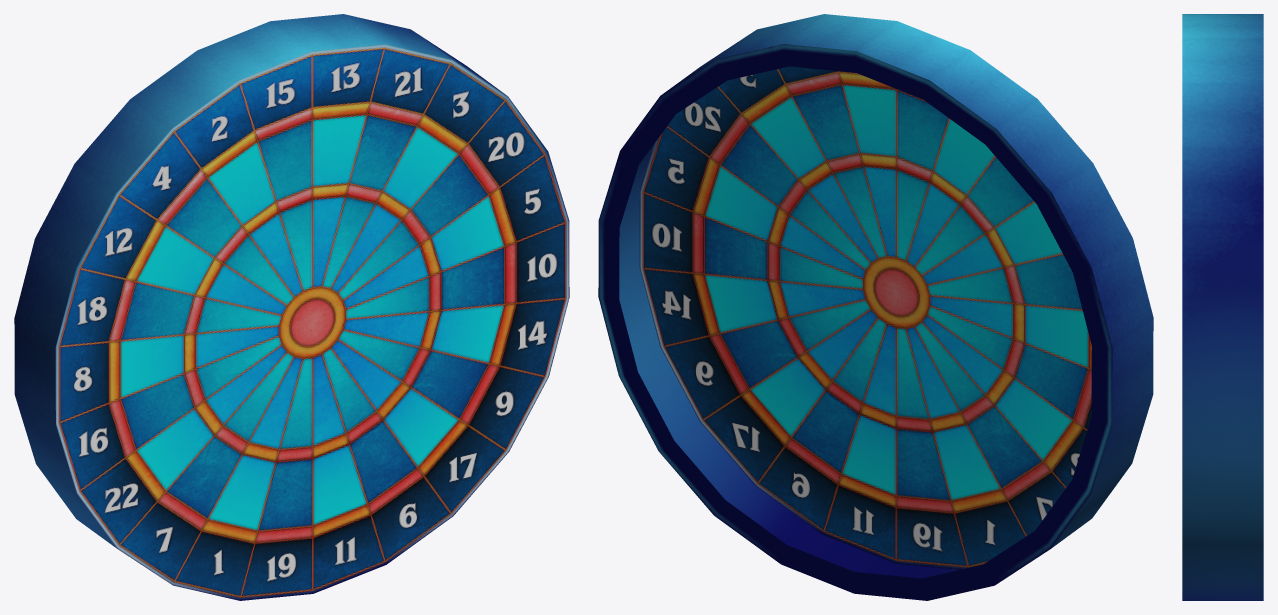
File: dart_board.fbx
The picture shows the model from 3 angles, left to right: view 1: azimuth 30°, elevation 25°; view 2: azimuth 150°, elevation 25°; view 3: azimuth 270°, elevation 25°; orthographic projection.
Parts seen in each view (by area): view 1: polySurface45, polySurface8, polySurface30, polySurface40, polySurface42, polySurface32, polySurface43, polySurface22, polySurface10, polySurface34, polySurface28, polySurface20 (+59 smaller); view 2: polySurface45, polySurface8, polySurface18, polySurface20, polySurface10, polySurface12, polySurface14, polySurface16, polySurface6, polySurface100, polySurface110, polySurface112 (+49 smaller); view 3: polySurface45.
Part boxes in pixels (box(x1,y1,x2,y2)): polySurface45: box(14, 14, 569, 600); polySurface8: box(515, 222, 565, 303); polySurface30: box(59, 342, 109, 422); polySurface40: box(240, 55, 312, 130); polySurface42: box(312, 48, 384, 107); polySurface32: box(59, 268, 125, 346); polySurface43: box(370, 48, 450, 114); polySurface22: box(175, 530, 254, 596); polySurface10: box(499, 298, 565, 376); polySurface34: box(80, 195, 156, 278); polySurface28: box(60, 403, 125, 490); polySurface20: box(241, 537, 312, 596); polySurface45: box(598, 14, 1153, 600); polySurface8: box(643, 192, 693, 272); polySurface18: box(824, 484, 896, 559); polySurface20: box(896, 507, 968, 566); polySurface10: box(644, 268, 709, 346); polySurface12: box(664, 336, 740, 419); polySurface14: box(703, 395, 784, 482); polySurface16: box(758, 446, 838, 530); polySurface6: box(644, 127, 709, 211); polySurface100: box(704, 216, 768, 279); polySurface110: box(841, 414, 896, 495); polySurface112: box(896, 428, 950, 500); polySurface45: box(1182, 14, 1263, 600).
Bounding box in the file's own units: 10.1 × 10.19 × 1.4.
